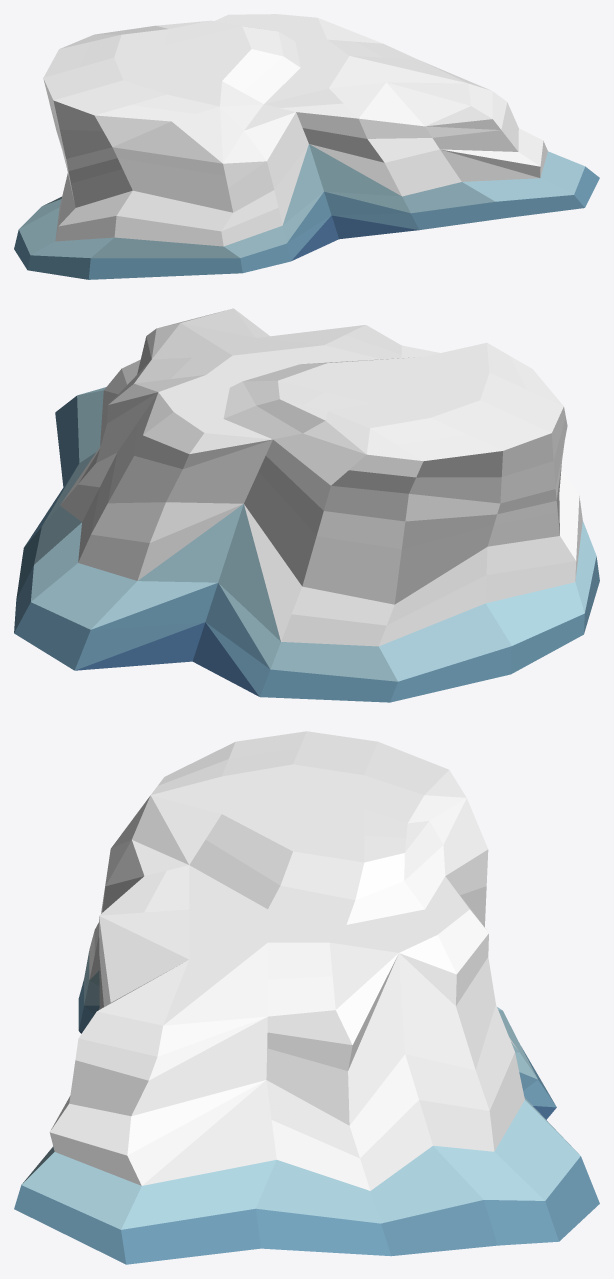
Rendered from terrainCliffLarge1.fbx.
The picture shows the model from 3 angles, top to bottom: view 1: azimuth 30°, elevation 25°; view 2: azimuth 150°, elevation 25°; view 3: azimuth 270°, elevation 25°; orthographic projection. The views are drawn at different scales.
Parts seen in each view (by area): view 1: bottom, top; view 2: bottom, top; view 3: bottom, top.
Part boxes in pixels (x1,y1,x2,y2): bottom: [14, 34, 599, 279]; top: [95, 14, 547, 177]; bottom: [14, 336, 599, 702]; top: [104, 308, 489, 468]; bottom: [14, 731, 599, 1264]; top: [49, 775, 488, 1185].
Bounding box in the file's own units: 3331 × 1269 × 2386.
Materials: 2 (2 with a texture image).
